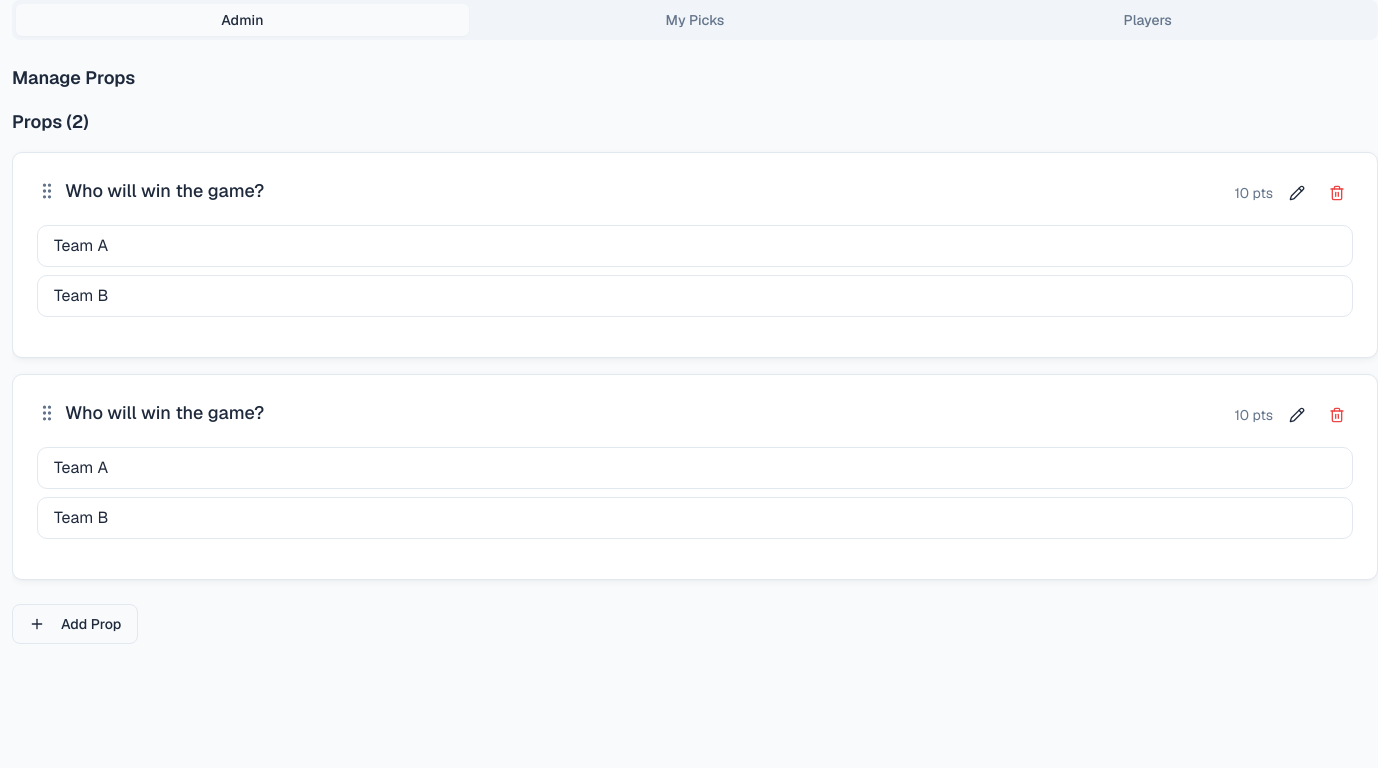
Test case: CaptainTabsClient › My Picks Tab › progress tracker › shows progress when pool is open
Click the tab "My Picks" at (695, 20), box [469,4,921,36]
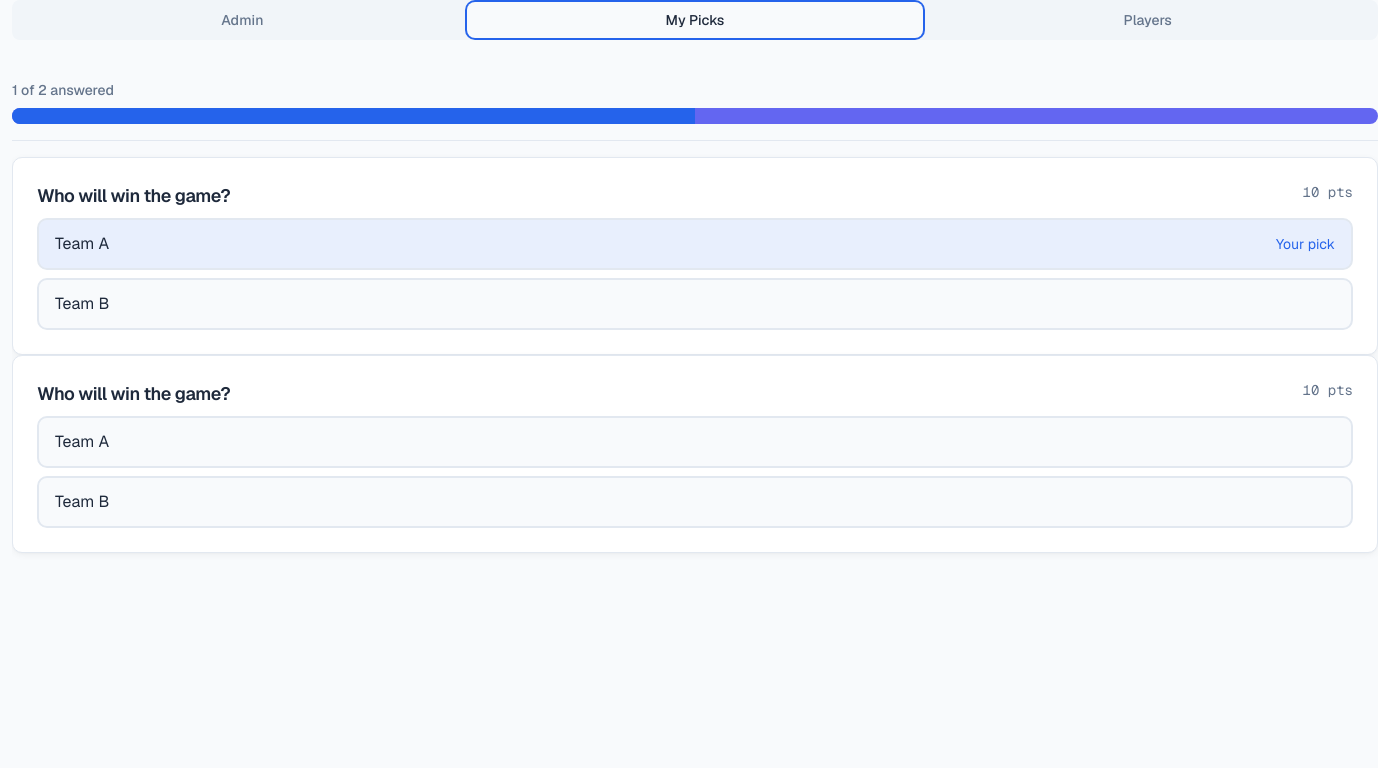
expect the text "1 of 2 answered" is shown: met, box [12,80,114,100]
